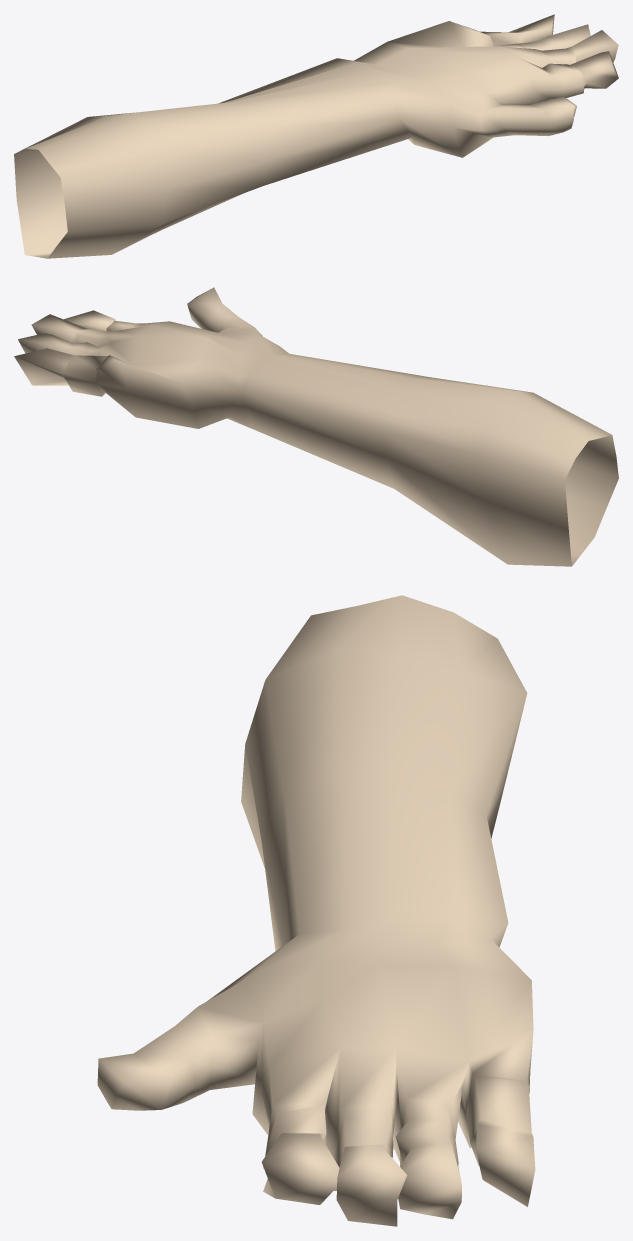
Rendered from рука от зайки.fbx.
3 views of the same model, one above another, from view 1: azimuth 30°, elevation 25°; view 2: azimuth 150°, elevation 25°; view 3: azimuth 270°, elevation 25° (orthographic). The views are drawn at different scales.
Visible parts, largest first — view 1: Sphere.011; view 2: Sphere.011; view 3: Sphere.011.
Part boxes in pixels (bbox=[...]): Sphere.011: bbox=[14, 14, 618, 258]; Sphere.011: bbox=[14, 287, 618, 566]; Sphere.011: bbox=[97, 595, 535, 1226].
Size of the model in its own units: 198 by 48.08 by 67.31.
